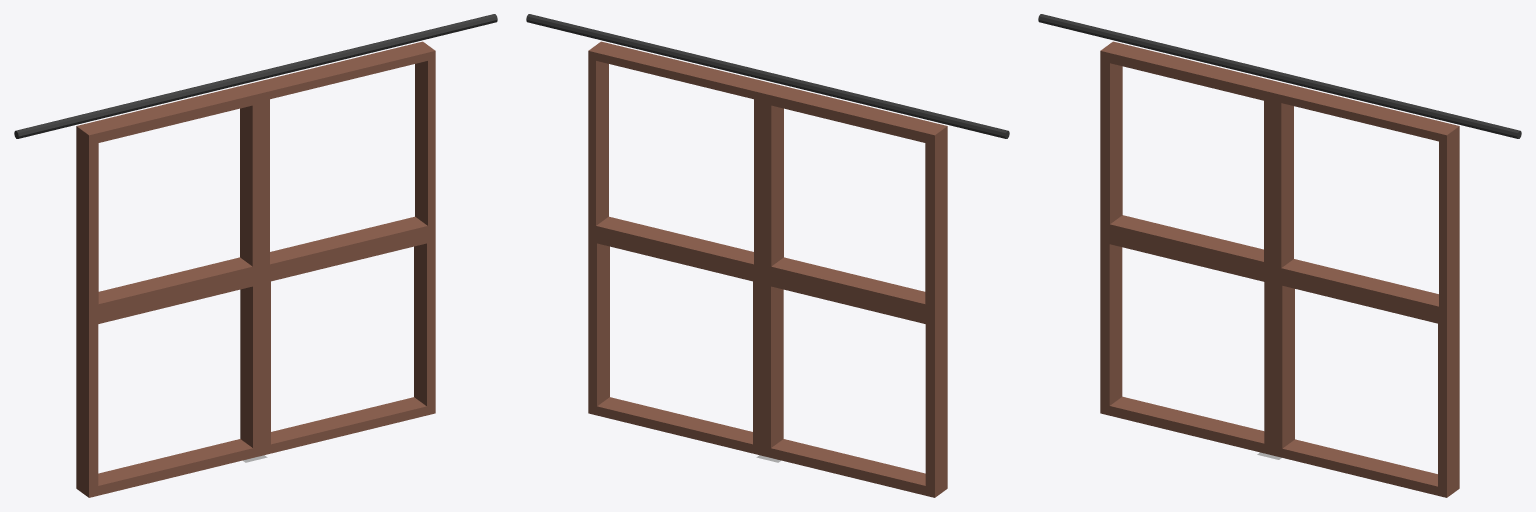
The model's file is WindowCurtains.fbx.
3 renders of one model, left to right at view 1: azimuth 30°, elevation 25°; view 2: azimuth 150°, elevation 25°; view 3: azimuth 330°, elevation 25°, orthographic.
Parts seen in each view (by area): view 1: window, rail; view 2: window, rail; view 3: window, rail.
Part boxes in pixels (box(x1,y1,x2,y2)): window: box(76, 41, 435, 497); rail: box(14, 14, 497, 138); window: box(588, 41, 947, 497); rail: box(526, 14, 1009, 138); window: box(1100, 41, 1459, 497); rail: box(1038, 14, 1521, 138).
Bounding box in the file's own units: 21.75 × 16.56 × 1.
